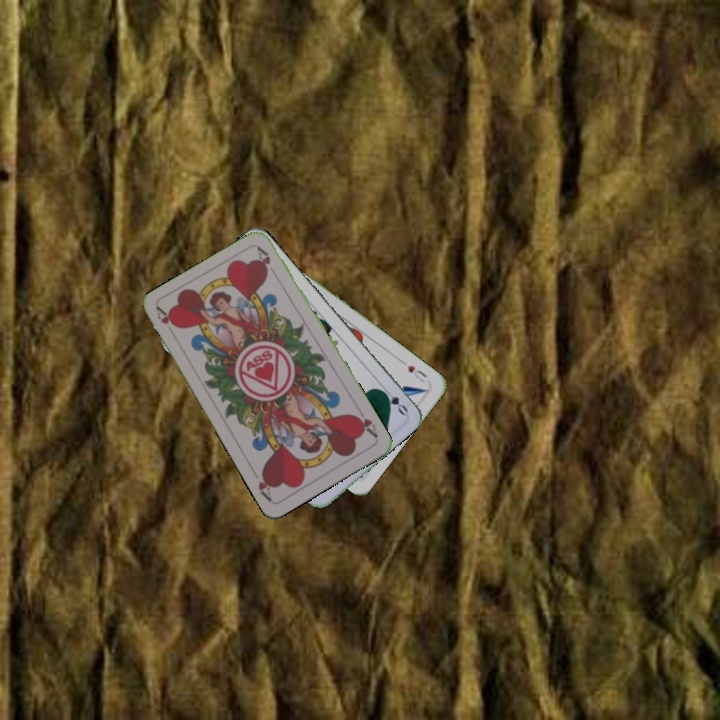GO: (376, 383, 411, 418)
HA: (349, 405, 380, 440), (152, 304, 180, 330)
HU: (403, 361, 430, 385)
